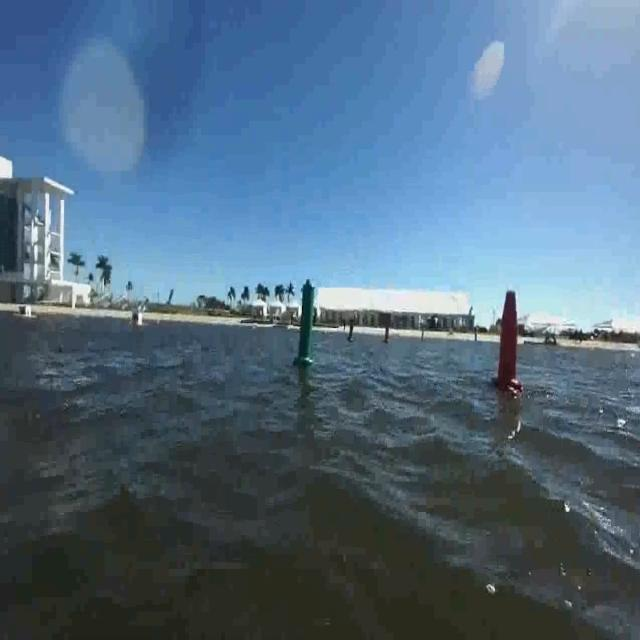green-column-buoy: (293, 280, 318, 369), (348, 320, 357, 344)
red-column-buoy: (494, 286, 523, 395), (383, 320, 392, 344)
